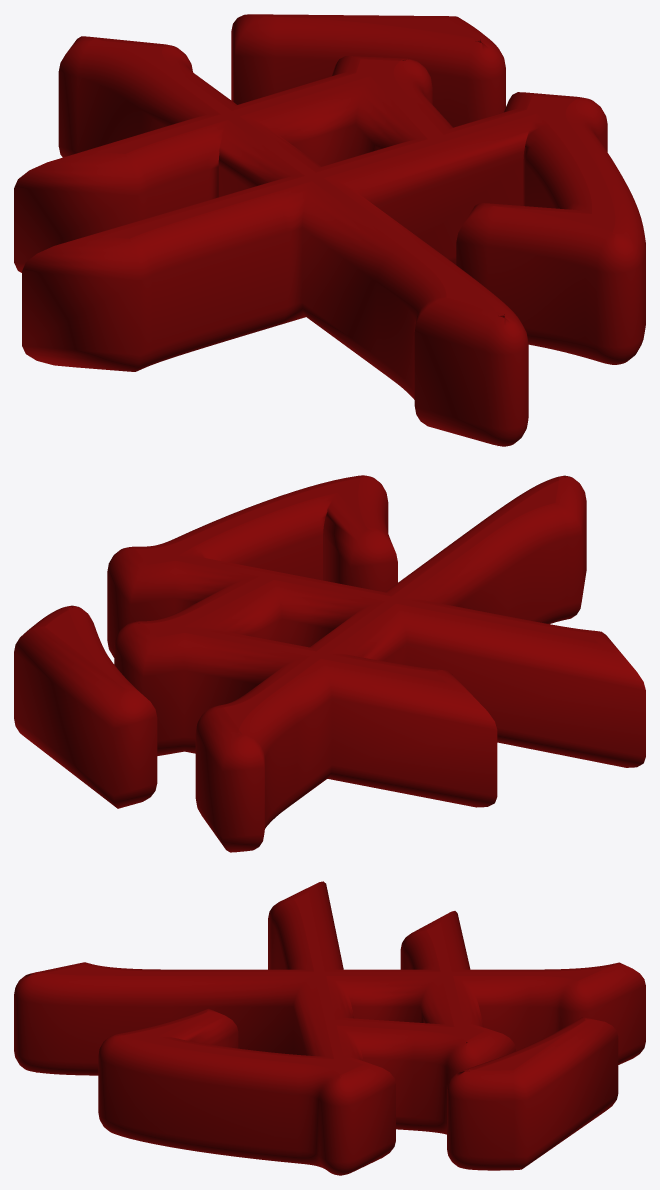
File: shu.fbx
The picture shows the model from 3 angles, top to bottom: view 1: azimuth 30°, elevation 25°; view 2: azimuth 150°, elevation 25°; view 3: azimuth 270°, elevation 25°; orthographic projection. The views are drawn at different scales.
Parts seen in each view (by area): view 1: Text; view 2: Text; view 3: Text.
Boxes of the visible parts, left/top/right/bottom form: Text: left=14, top=14, right=645, bottom=446; Text: left=14, top=475, right=645, bottom=852; Text: left=14, top=881, right=645, bottom=1175.
Size of the model in its own units: 66.57 by 14 by 81.83.
